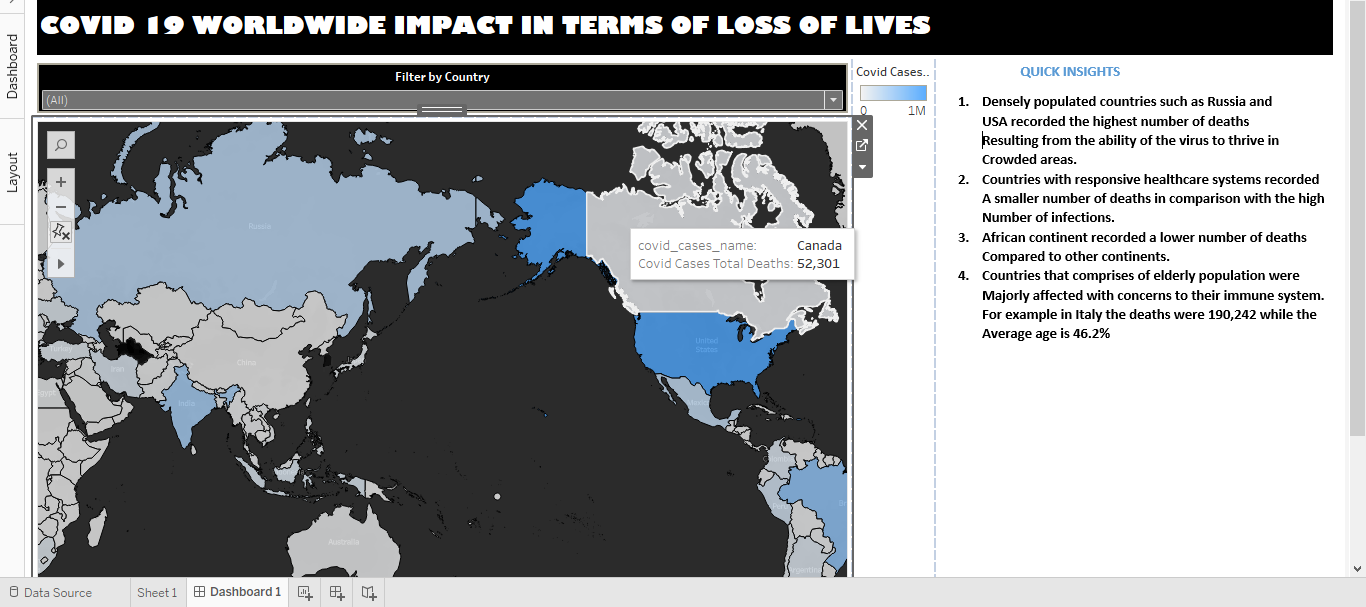

The dashboard page shown, as its layout file describes it:
{"tool":"tableau","page":{"name":"Dashboard 1","canvas":[1000,1000],"units":"permille","ordinal":0},"visuals":[{"type":"title","box":[6.1,10.5,987.9,88.2]},{"type":"filter","title":"Sheet 1","param":"[federated.1raqbus1l857bh1fkn1wr00r81io].[none:covid_cases_name:nk]","box":[6.1,98.7,620.5,75.9]},{"type":"legend","title":"Sheet 1","param":"[federated.1raqbus1l857bh1fkn1wr00r81io].[sum:covid_cases_total_deaths:qk]","box":[626.5,98.7,62.9,890.8]},{"type":"image","param":"Image/Capture1.PNG","box":[689.4,98.7,304.6,890.8]},{"type":"worksheet","title":"Sheet 1","mark":"Multipolygon","box":[6.1,174.6,620.5,814.9]}]}

Visuals, with their boxes on the dashboard's canvas, which has no fixed pixel size, in thousandths of its width and height (x1, y1, x2, y2). These are canvas units, not pixel positions in the 1366x607 screenshot, which may show the page scaled, cropped or inside an application window:
title: 6 10 994 99
"Sheet 1" filter: 6 99 627 175
"Sheet 1" legend: 626 99 689 990
image: 689 99 994 990
"Sheet 1" worksheet (Multipolygon marks): 6 175 627 990
